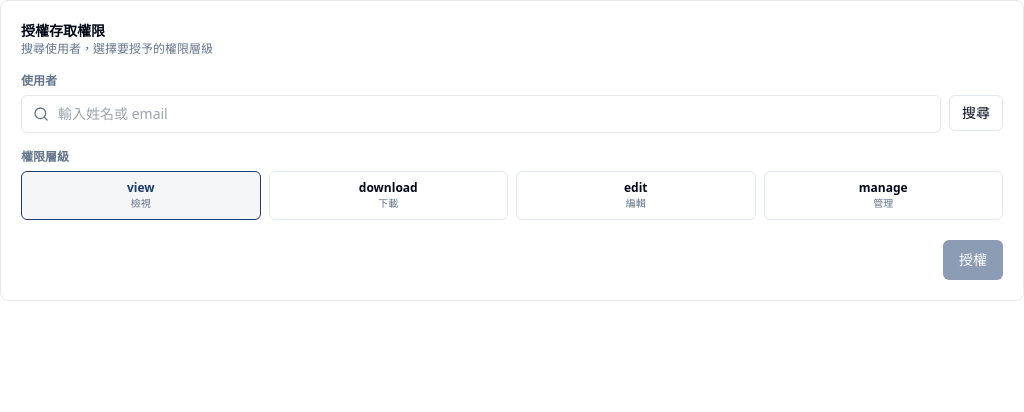
Test: GrantPermissionForm › shows a friendly error message when granting the permission fails
Step 1. Type "Alice" into the field with test id "user-search-input" → (481, 114), box [21, 95, 941, 133]
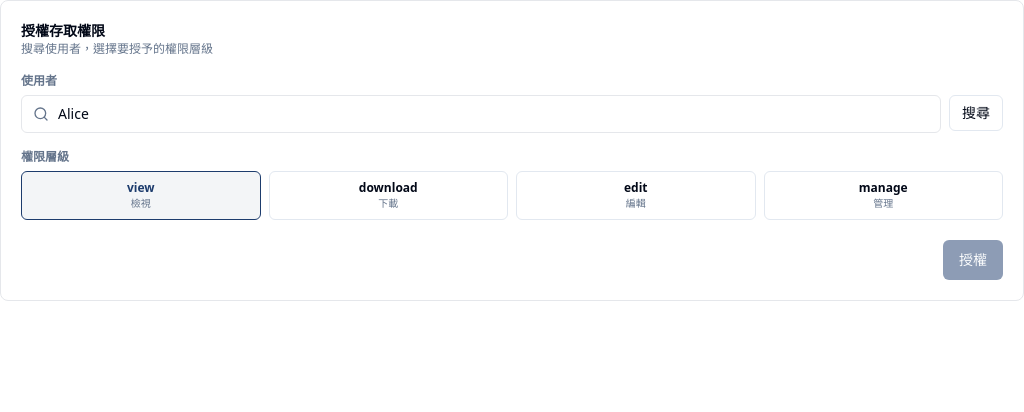
Step 2. Click the button with test id "user-search-submit" → (976, 113), box [949, 95, 1003, 131]
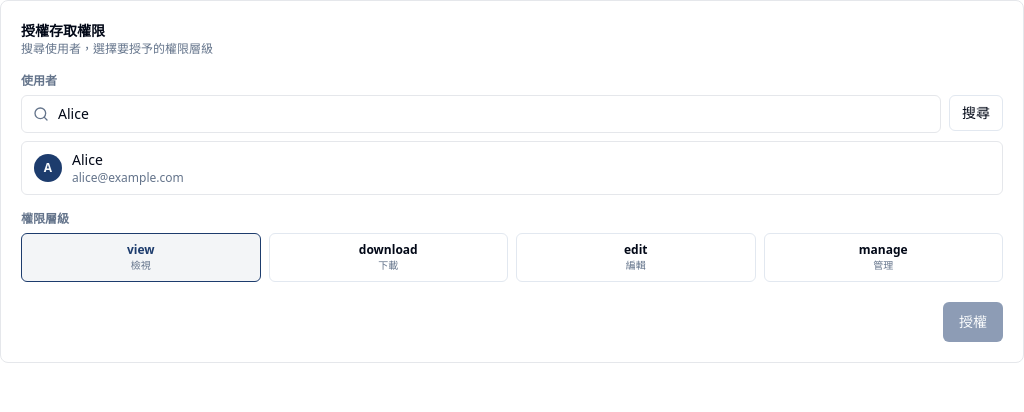
expect the text "Alice" is shown: met
Step 3. Click the text "Alice" → (87, 160), box [72, 150, 103, 169]
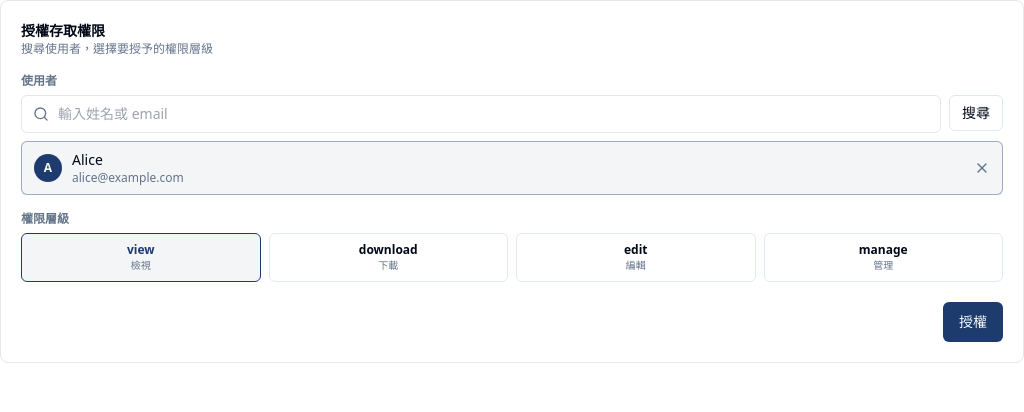
Step 4. Click the button with test id "grant-submit" → (973, 322), box [943, 302, 1003, 342]
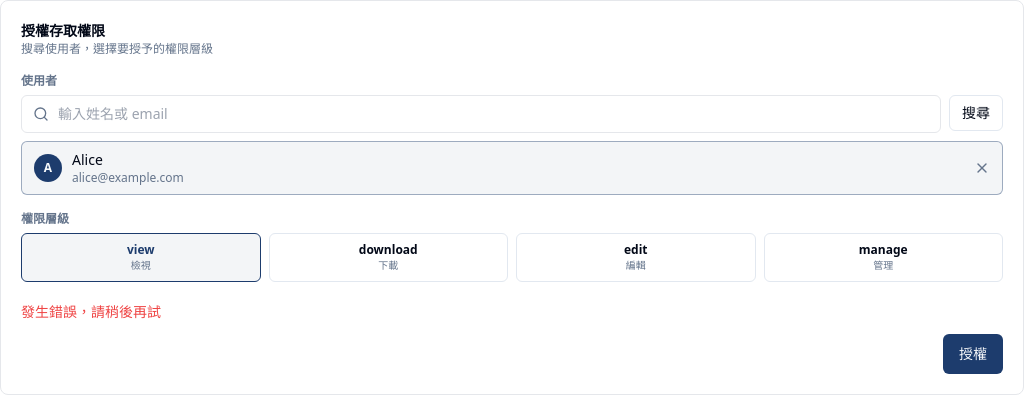
expect the text "發生錯誤，請稍後再試" is shown: met, box [21, 302, 161, 321]
